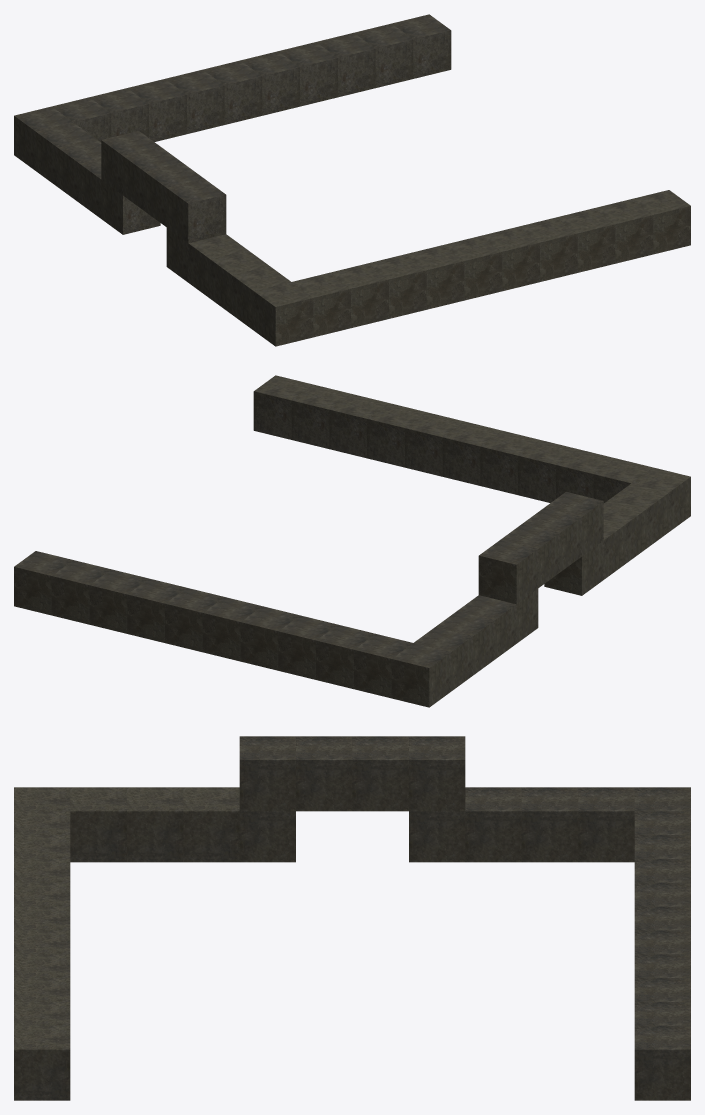
The model's file is city wall.glb.
3 views of the same model, one above another, from view 1: azimuth 30°, elevation 25°; view 2: azimuth 150°, elevation 25°; view 3: azimuth 270°, elevation 25° (orthographic). The views are drawn at different scales.
Parts seen in each view (by area): view 1: City Wall; view 2: City Wall; view 3: City Wall.
Boxes of the visible parts, left/top/right/bottom form: City Wall: left=14, top=14, right=690, bottom=346; City Wall: left=14, top=375, right=690, bottom=707; City Wall: left=14, top=736, right=690, bottom=1100.
Bounding box in the file's own units: 110 × 20 × 120.
Materials: 1 (1 with a texture image).
